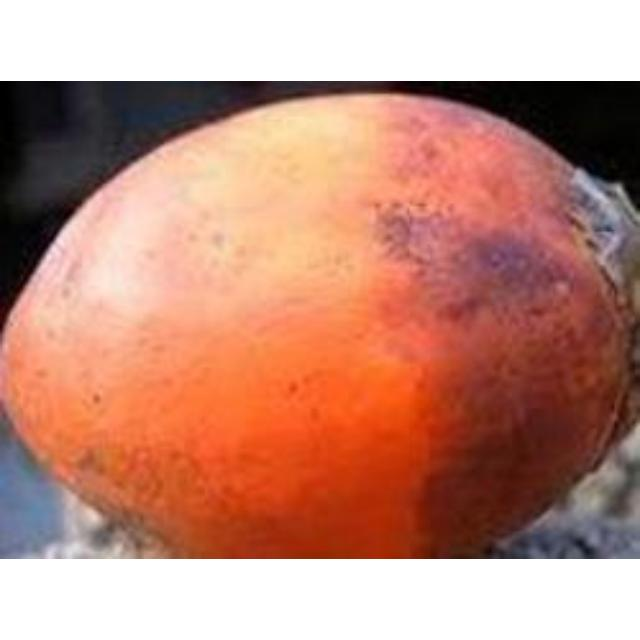good: (0, 94, 637, 557)
